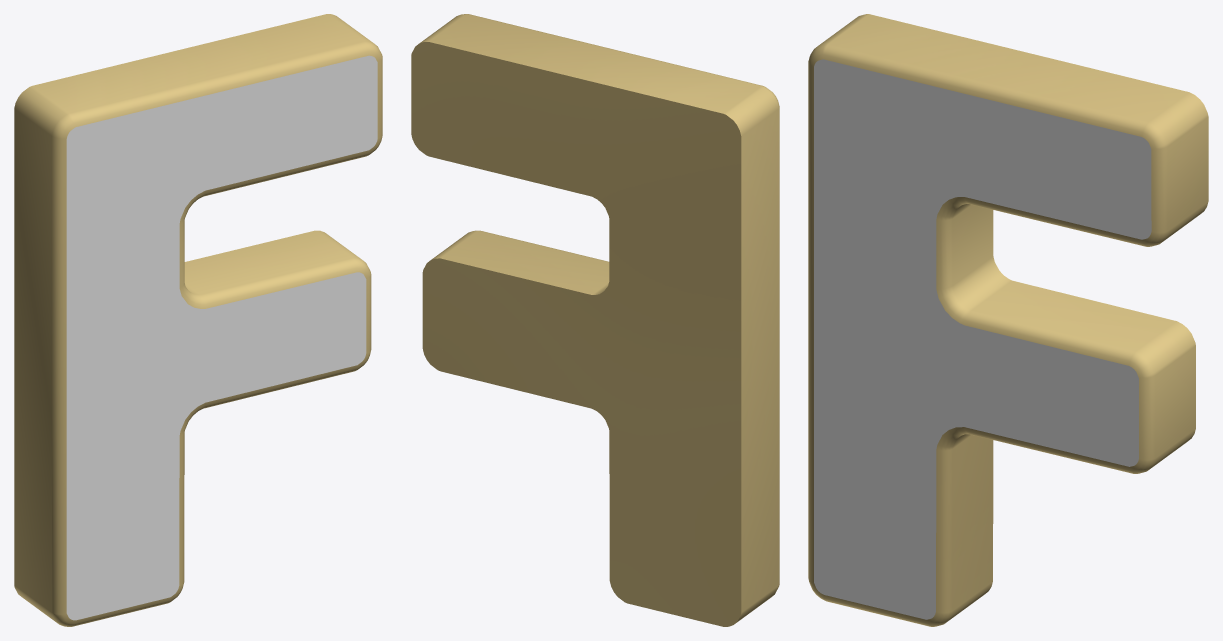
Rendered from LettersLightUp02_F.FBX.
3 renders of one model, left to right at view 1: azimuth 30°, elevation 25°; view 2: azimuth 150°, elevation 25°; view 3: azimuth 330°, elevation 25°, orthographic. The views are drawn at different scales.
Parts seen in each view (by area): view 1: LettersLightUp02_F; view 2: LettersLightUp02_F; view 3: LettersLightUp02_F.
Boxes of the visible parts, x1=… form: LettersLightUp02_F: x1=14, y1=14, x2=382, y2=626; LettersLightUp02_F: x1=411, y1=14, x2=779, y2=626; LettersLightUp02_F: x1=808, y1=14, x2=1208, y2=626.
Size of what is drawn, in the model's own units: 0.4036 by 0.5996 by 0.0912.
